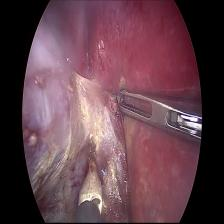Grasper: (116, 84, 205, 156)
Hook: (72, 134, 106, 222)
